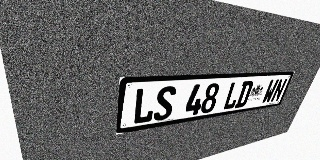4: (184, 84, 207, 116)
8: (199, 83, 221, 114)
D: (234, 81, 254, 108)
L: (132, 87, 157, 125), (222, 81, 243, 110)
N: (270, 78, 288, 102)
S: (153, 86, 177, 122)
W: (261, 79, 279, 104)
